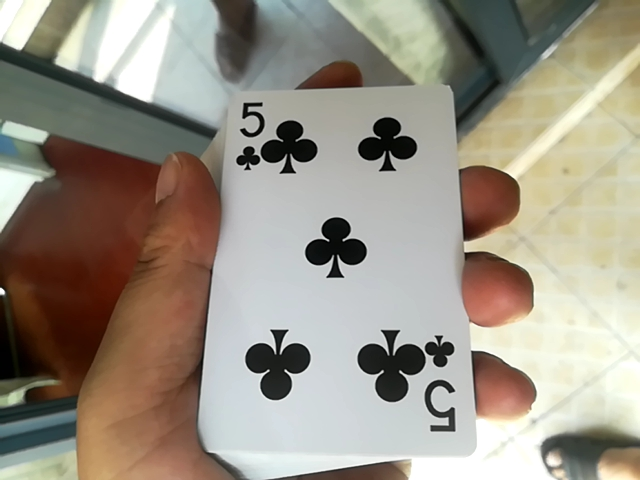mh 5: (188, 58, 474, 470)
